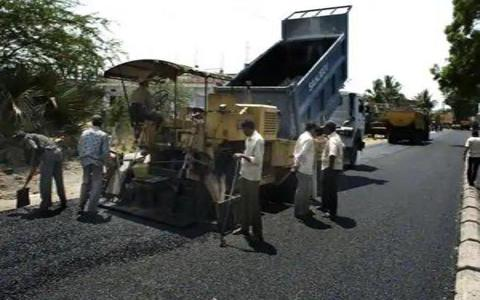Proper road: (380, 158, 449, 289)
